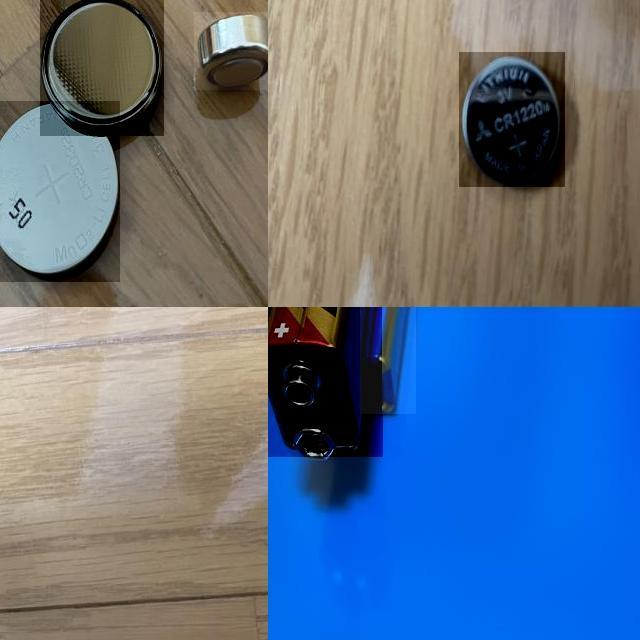9V: (268, 307, 383, 457), (360, 307, 416, 414)
